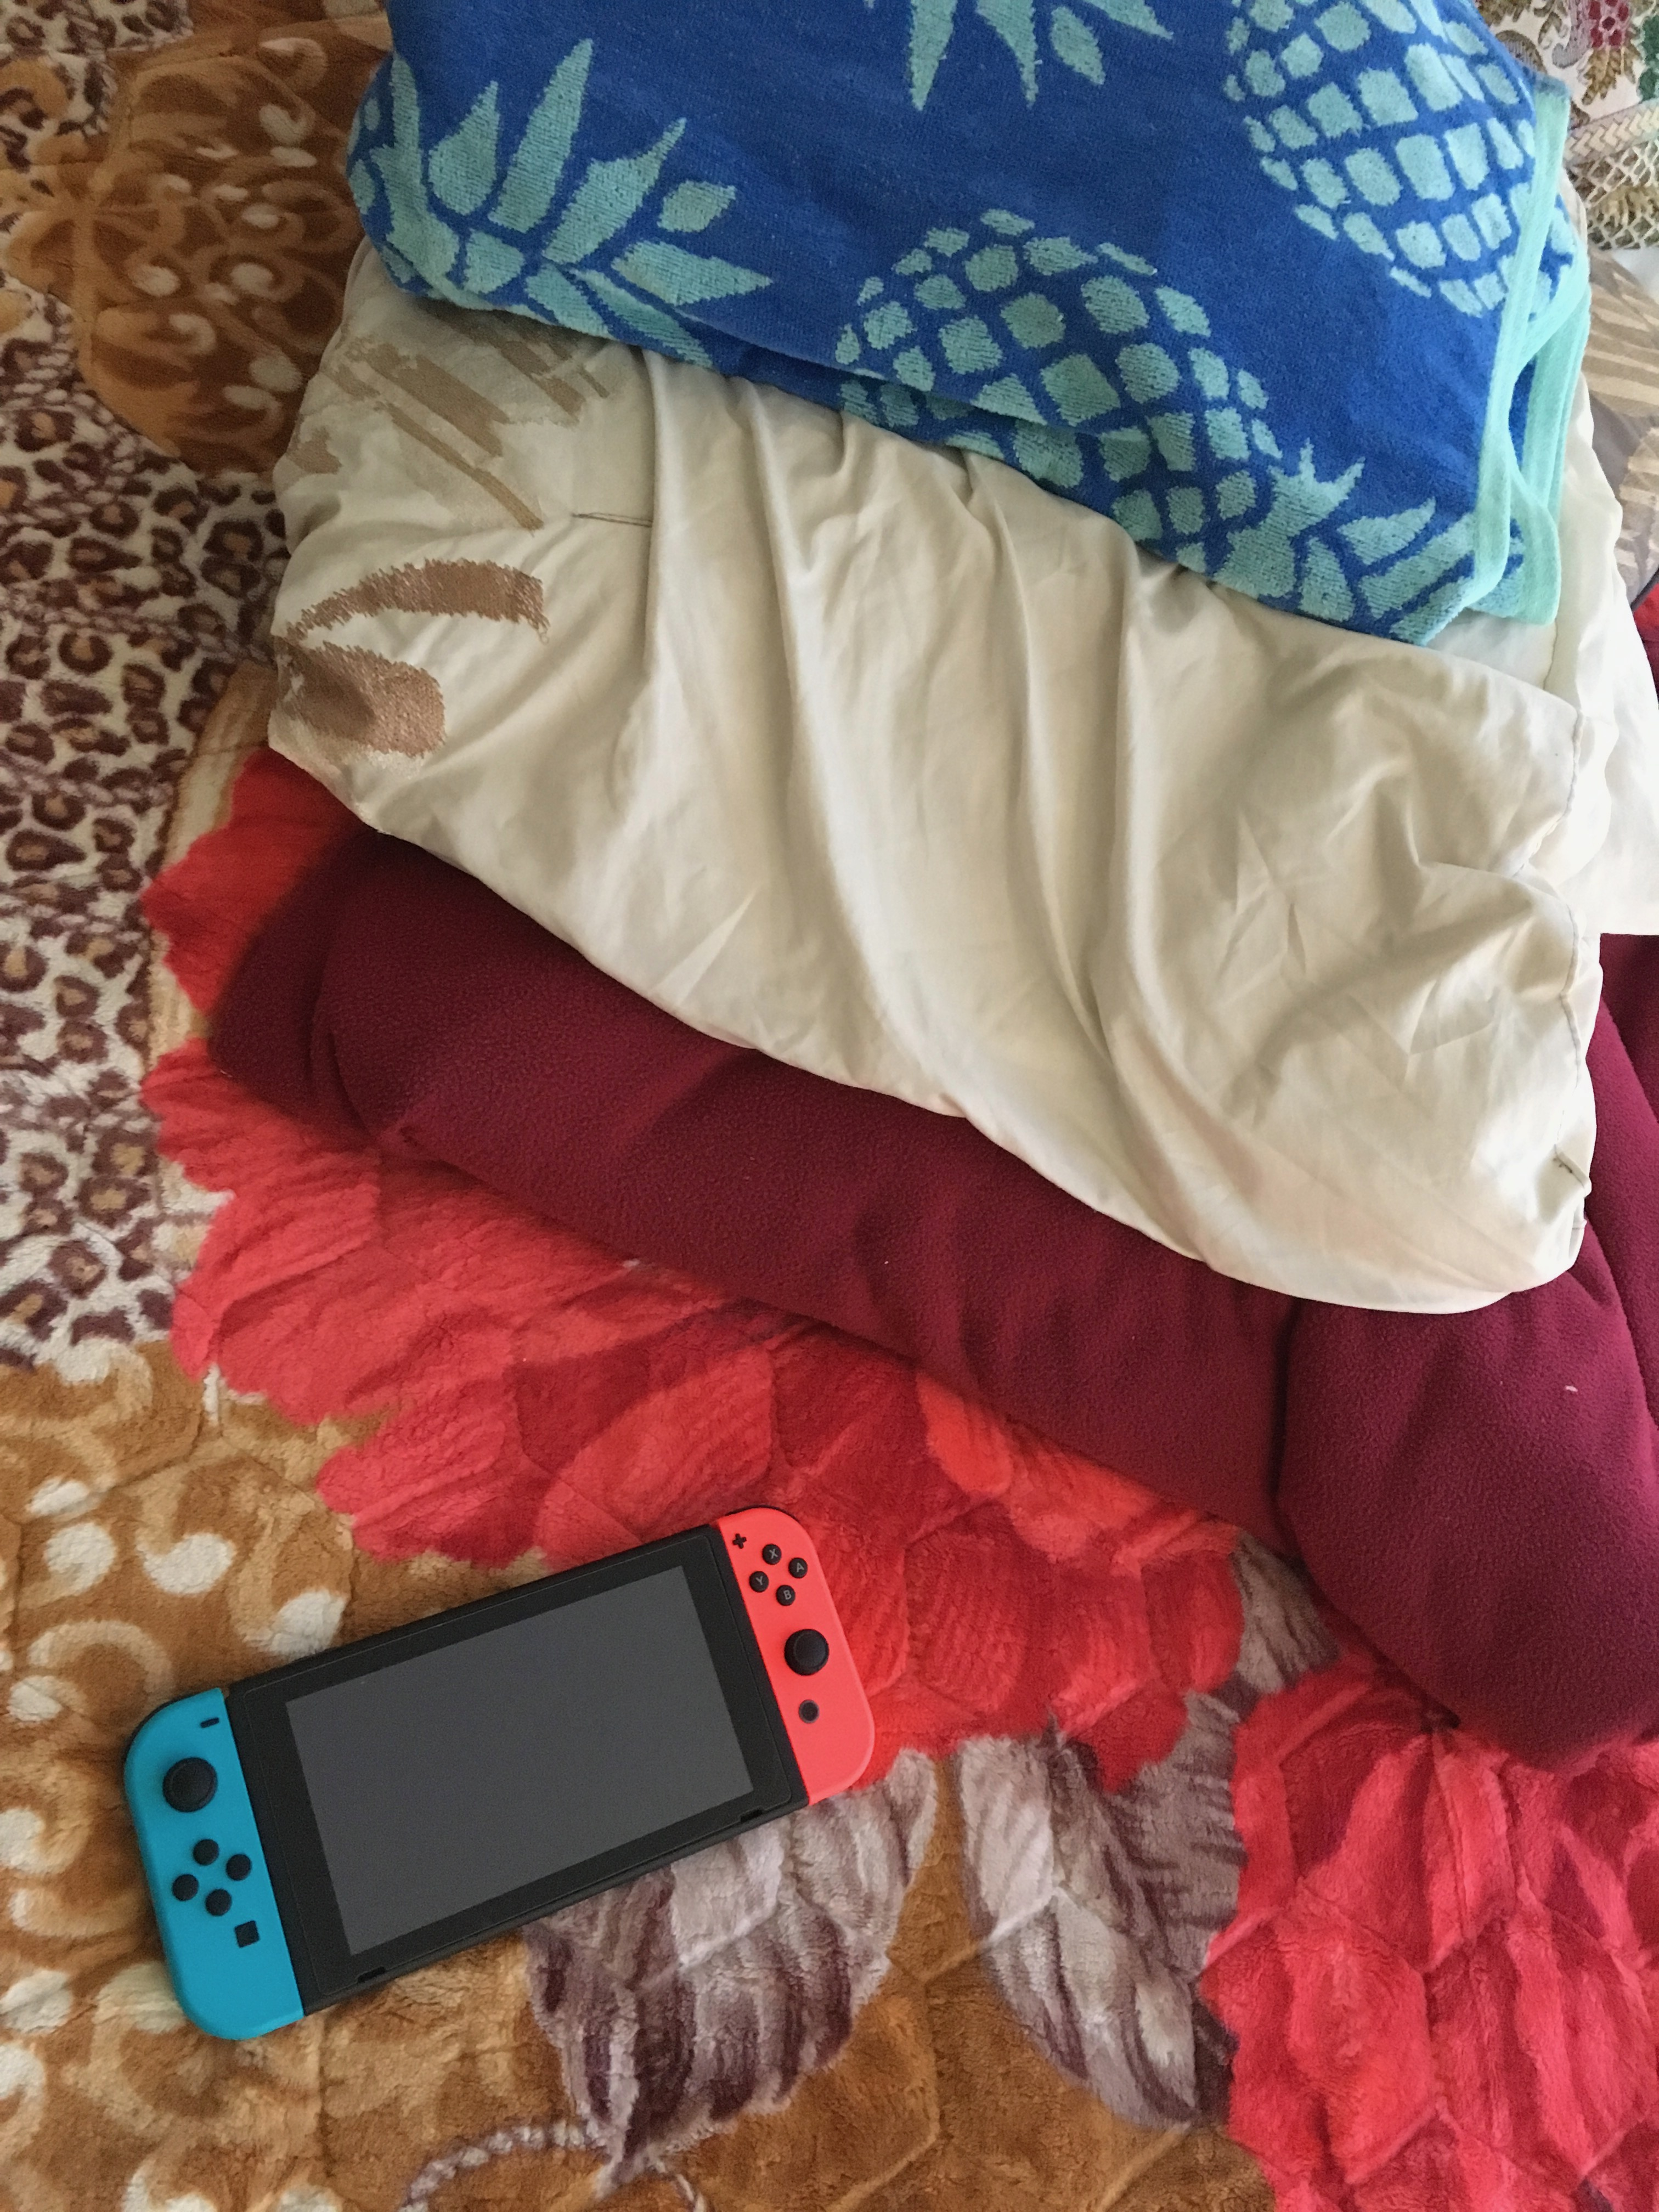NintendoSwitch: (105, 1493, 890, 2050)
